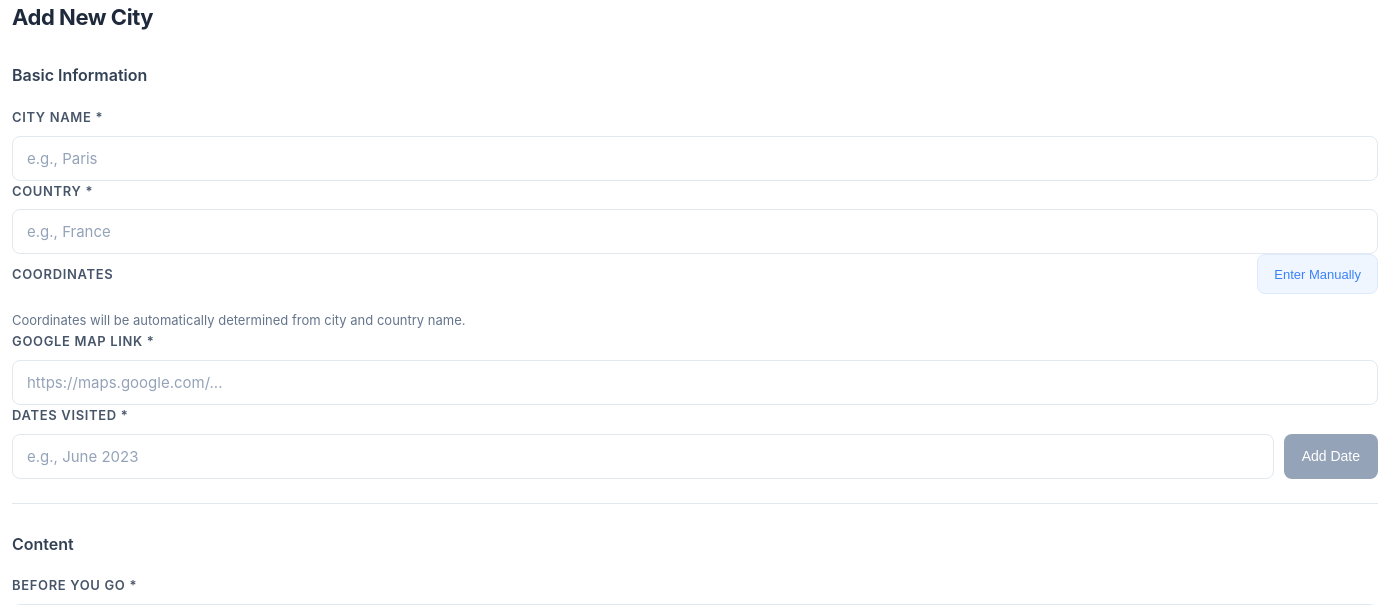
Scenario: CityForm › allows toggling between automatic and manual coordinates
The width and height of the screenshot is (1390, 605).
Expected: the field labelled "latitude" is not shown
Expected: the field labelled "longitude" is not shown
// Click toggle button
Click the button "Enter Manually". click: point(1318, 274)
box: [1257,254,1378,294]
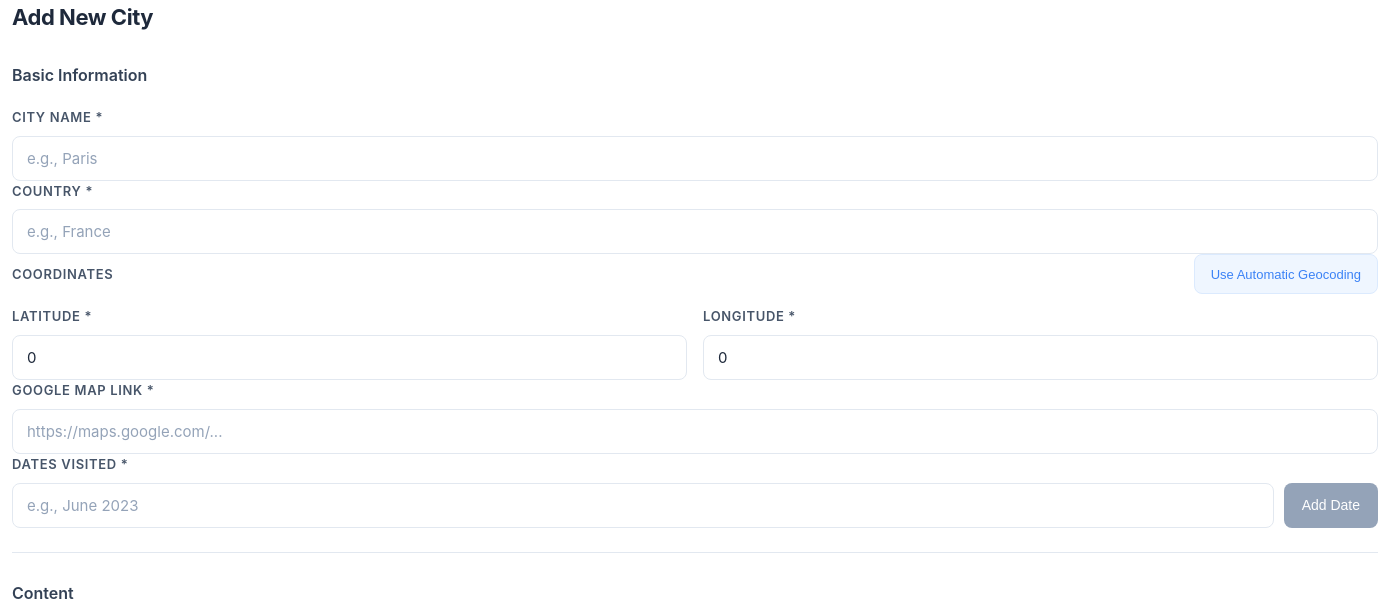
Now the number field labelled "Latitude *" is shown, box [12,335,687,380]
Now the number field labelled "Longitude *" is shown, box [703,335,1378,380]
// Toggle back
Click the button "Use Automatic Geocoding". click: point(1286, 274)
box: [1194,254,1378,294]
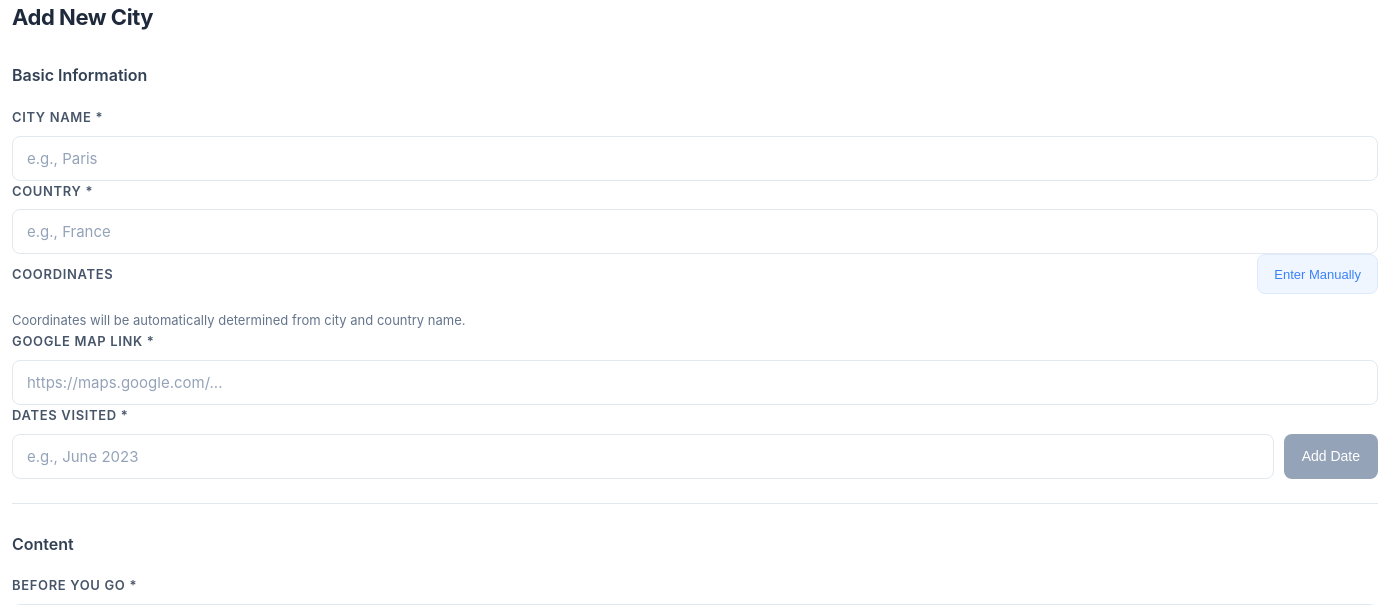
Now the label labelled "Latitude" is gone
Now the label labelled "Longitude" is gone
